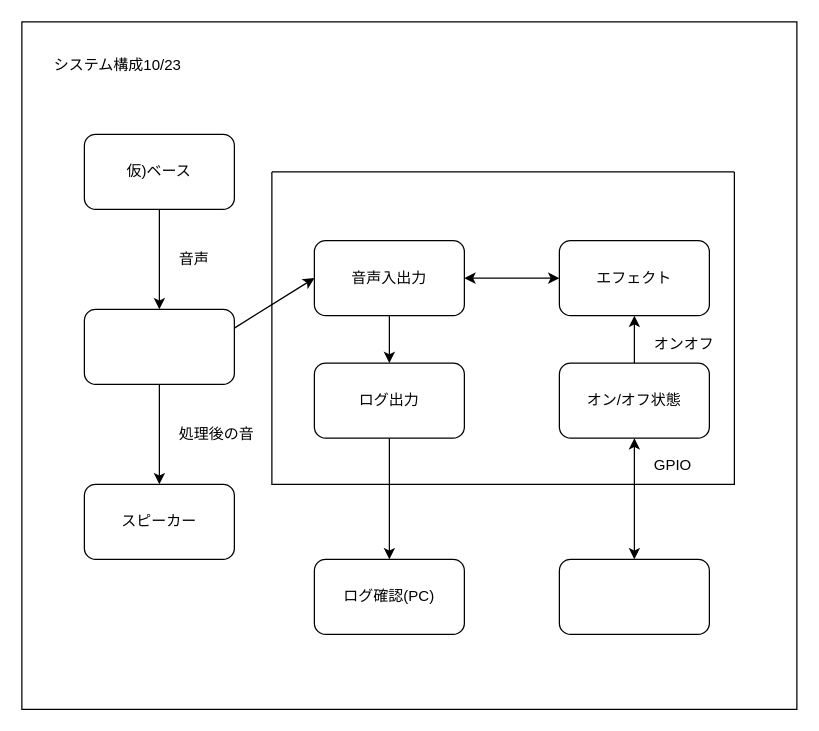
Image size: 819x731. Some labels were removed from this diagram. Each missing label, with the box of its shape:
YAMAHAAG03MK2: (83, 308, 234, 384)
タクトスイッチ: (558, 558, 709, 634)
ラズパイ4(Circle): (271, 171, 734, 484)
